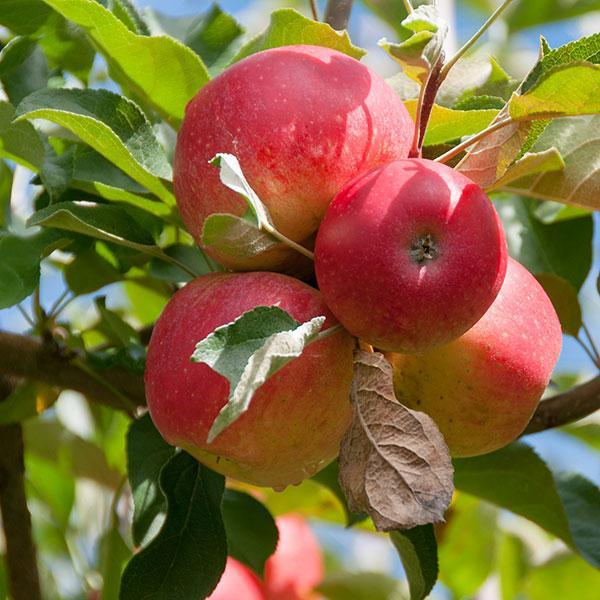apple: (145, 267, 375, 491), (177, 51, 417, 263), (379, 252, 562, 460), (317, 156, 510, 353)
